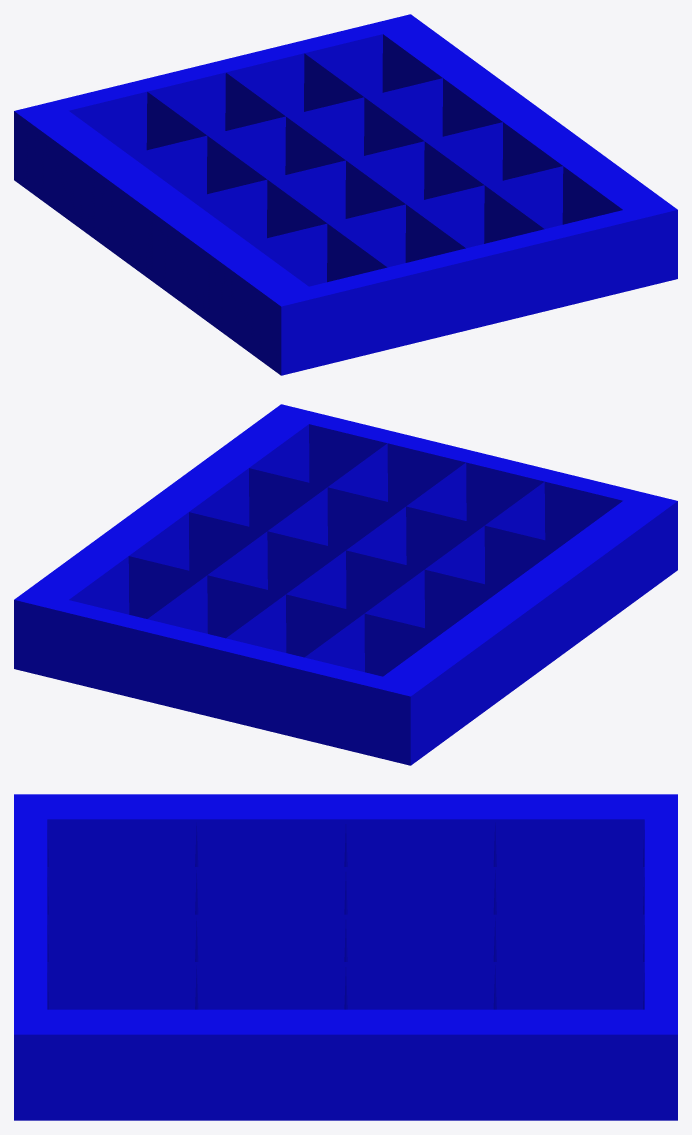
File: Batteries (Bin).fbx
The picture shows the model from 3 angles, top to bottom: view 1: azimuth 30°, elevation 25°; view 2: azimuth 150°, elevation 25°; view 3: azimuth 270°, elevation 25°; orthographic projection. The views are drawn at different scales.
Visible parts, largest first — view 1: Batteries Bin.001; view 2: Batteries Bin.001; view 3: Batteries Bin.001.
Part boxes in pixels (x1=…): Batteries Bin.001: x1=14, y1=14, x2=677, y2=375; Batteries Bin.001: x1=14, y1=404, x2=677, y2=765; Batteries Bin.001: x1=14, y1=794, x2=677, y2=1120.
Size of the model in its own units: 30.48 by 5.08 by 35.56.
